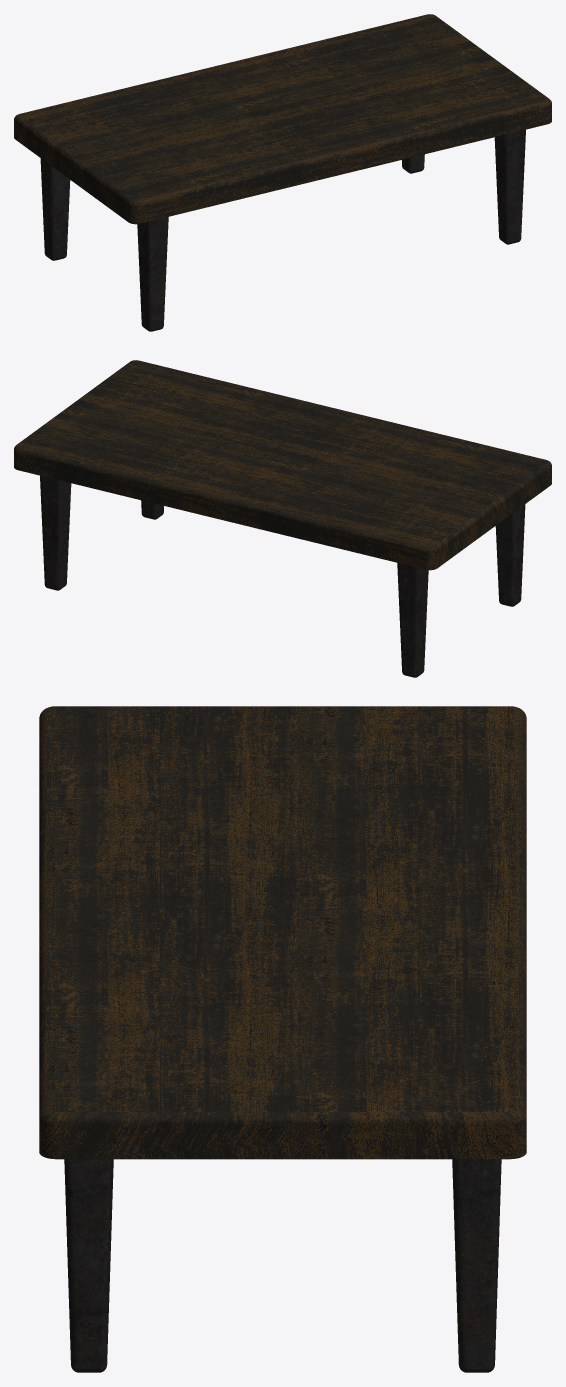
File: table.glb
The picture shows the model from 3 angles, top to bottom: view 1: azimuth 30°, elevation 25°; view 2: azimuth 150°, elevation 25°; view 3: azimuth 270°, elevation 25°; orthographic projection. The views are drawn at different scales.
Visible parts, largest first — view 1: Cube, Cube.001; view 2: Cube, Cube.001; view 3: Cube, Cube.001.
Part boxes in pixels (left/top/right/bottom): Cube: left=14, top=14, right=551, bottom=224; Cube.001: left=40, top=129, right=525, bottom=331; Cube: left=14, top=360, right=551, bottom=570; Cube.001: left=40, top=475, right=525, bottom=677; Cube: left=39, top=706, right=526, bottom=1159; Cube.001: left=64, top=1159, right=501, bottom=1372.
Size of the model in its own units: 12 by 3.86 by 6.
Materials: 2 (2 with a texture image).
